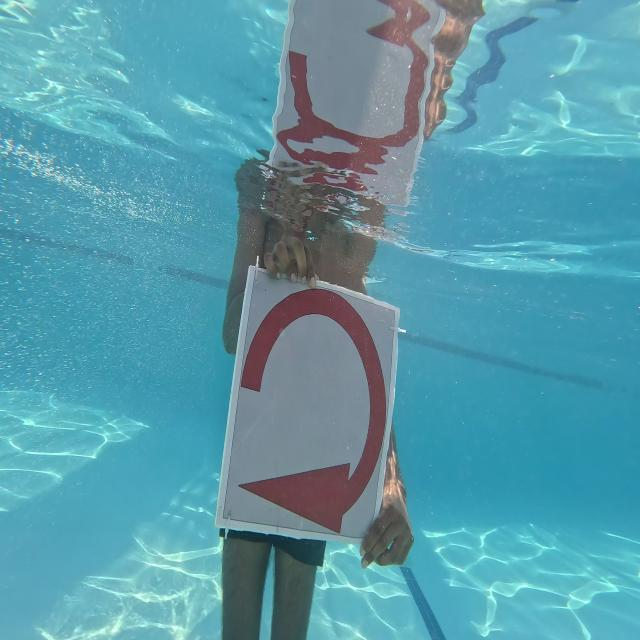red_side: (236, 264, 404, 549)
